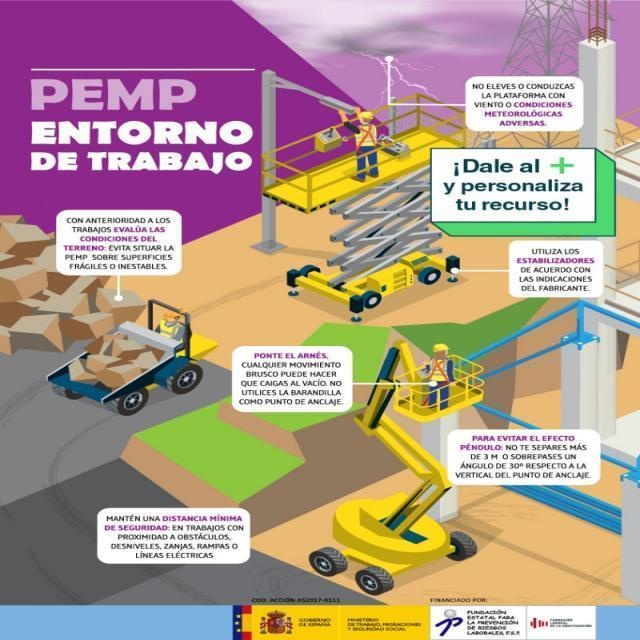Arnes_seguridad: (354, 119, 376, 148)
